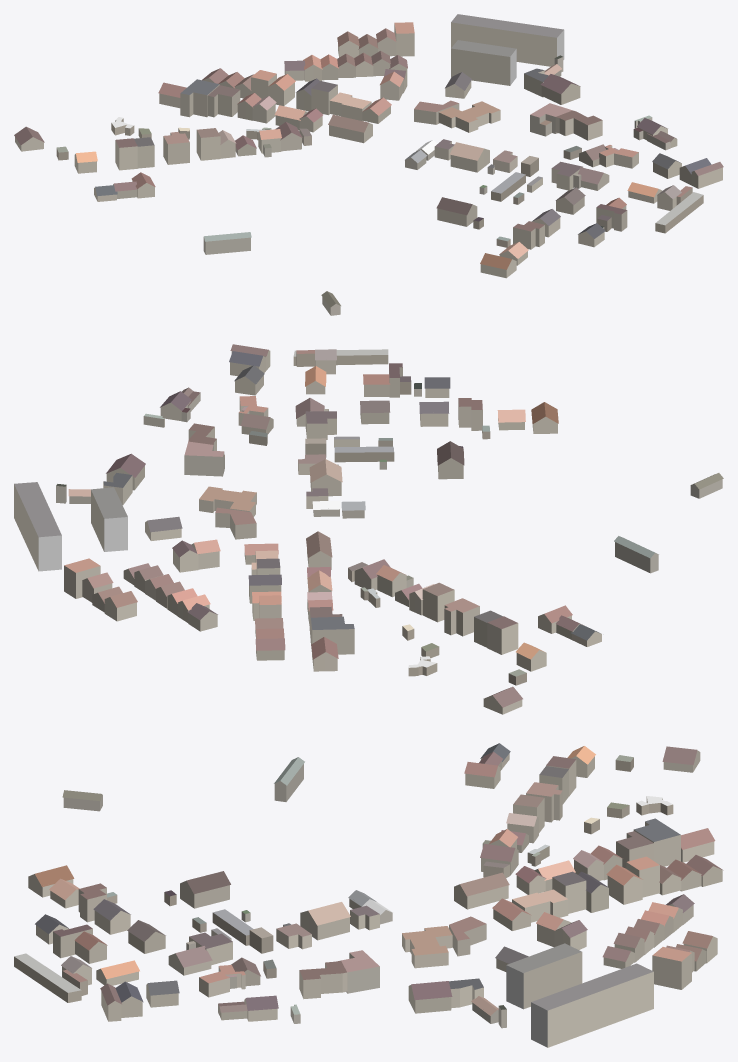
3 renders of one model, top to bottom at view 1: azimuth 30°, elevation 25°; view 2: azimuth 150°, elevation 25°; view 3: azimuth 270°, elevation 25°, orthographic. The views are drawn at different scales.
Parts seen in each view (by area): view 1: tuile; view 2: tuile; view 3: tuile.
Boxes of the visible parts, x1,y1,x2,y2 form: tuile: (14, 14, 723, 315); tuile: (14, 344, 723, 714); tuile: (14, 743, 723, 1047).
Size of the model in its own units: 267 by 22.29 by 266.
